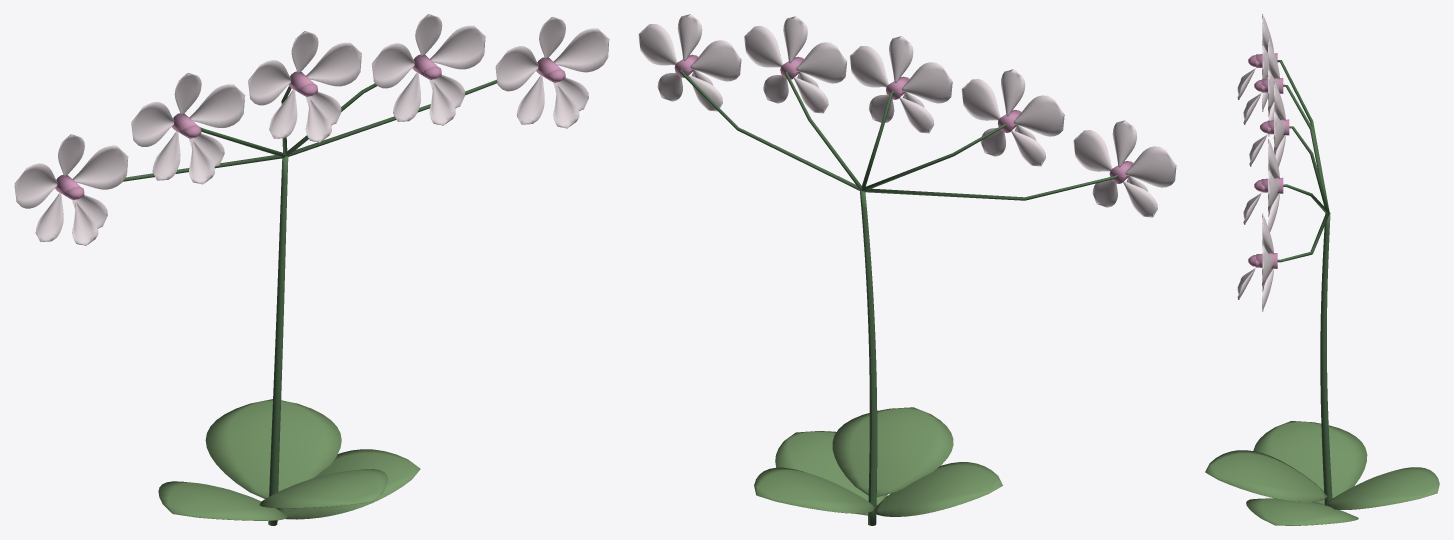
Rendered from orchid-legendary-v2.glb.
3 renders of one model, left to right at view 1: azimuth 30°, elevation 25°; view 2: azimuth 150°, elevation 25°; view 3: azimuth 270°, elevation 25°, orthographic. The views are drawn at different scales.
Parts seen in each view (by area): view 1: orchid-legendary-v2-petal, orchid-legendary-v2-leaf, orchid-legendary-v2-stem, orchid-legendary-v2-center; view 2: orchid-legendary-v2-petal, orchid-legendary-v2-leaf, orchid-legendary-v2-stem, orchid-legendary-v2-center; view 3: orchid-legendary-v2-leaf, orchid-legendary-v2-petal, orchid-legendary-v2-stem, orchid-legendary-v2-center.
Part boxes in pixels (x1=…): orchid-legendary-v2-petal: x1=14, y1=14, x2=609, y2=245; orchid-legendary-v2-leaf: x1=158, y1=399, x2=420, y2=520; orchid-legendary-v2-stem: x1=76, y1=79, x2=497, y2=525; orchid-legendary-v2-center: x1=55, y1=54, x2=565, y2=199; orchid-legendary-v2-petal: x1=638, y1=14, x2=1176, y2=217; orchid-legendary-v2-leaf: x1=754, y1=407, x2=1002, y2=516; orchid-legendary-v2-stem: x1=679, y1=69, x2=1117, y2=525; orchid-legendary-v2-center: x1=674, y1=54, x2=1133, y2=183; orchid-legendary-v2-leaf: x1=1205, y1=421, x2=1439, y2=525; orchid-legendary-v2-petal: x1=1237, y1=14, x2=1285, y2=311; orchid-legendary-v2-stem: x1=1277, y1=60, x2=1332, y2=505; orchid-legendary-v2-center: x1=1248, y1=53, x2=1289, y2=268.
Size of the model in its own units: 2.42 by 2.01 by 0.973.
